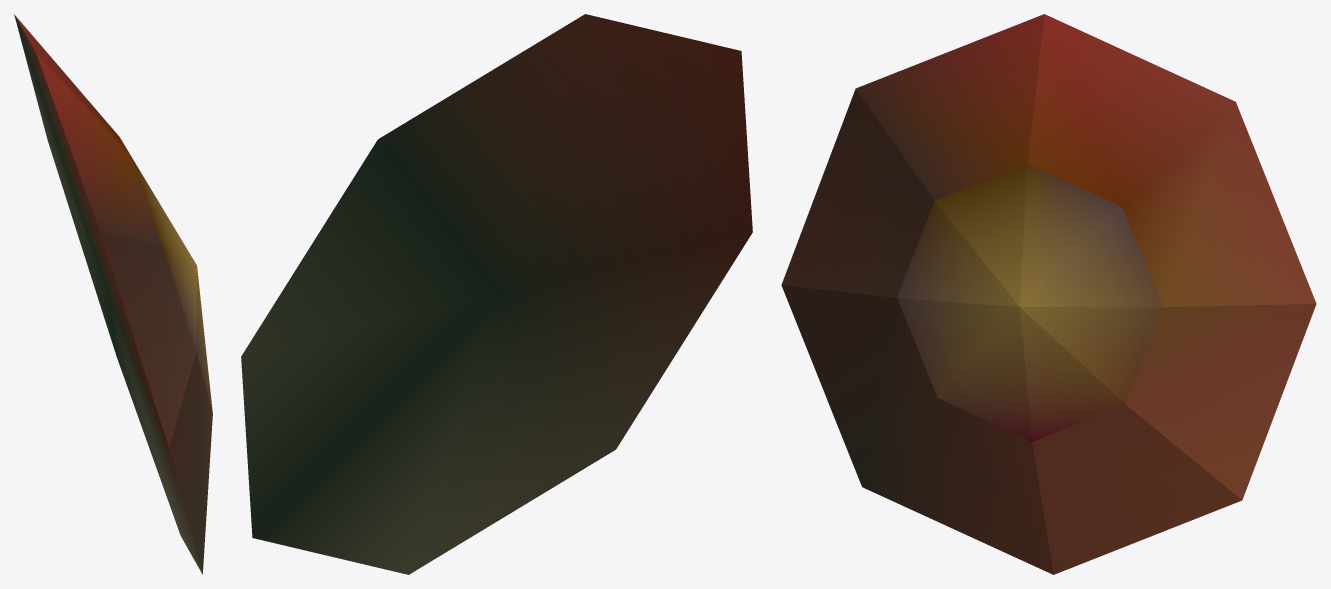
Rendered from igaa.hrc.gltf.
3 renders of one model, left to right at view 1: azimuth 30°, elevation 25°; view 2: azimuth 150°, elevation 25°; view 3: azimuth 270°, elevation 25°, orthographic. The views are drawn at different scales.
Visible parts, largest first — view 1: igaaBone0_0; view 2: igaaBone0_0; view 3: igaaBone0_0.
Boxes of the visible parts, x1,y1,x2,y2 form: igaaBone0_0: (14, 14, 212, 574); igaaBone0_0: (241, 14, 752, 574); igaaBone0_0: (781, 14, 1316, 574).
Size of the model in its own units: 206 by 463 by 456.
